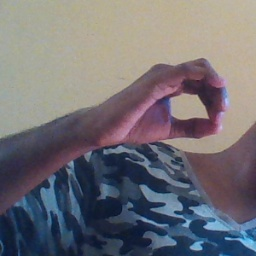O: (99, 52, 235, 152)
